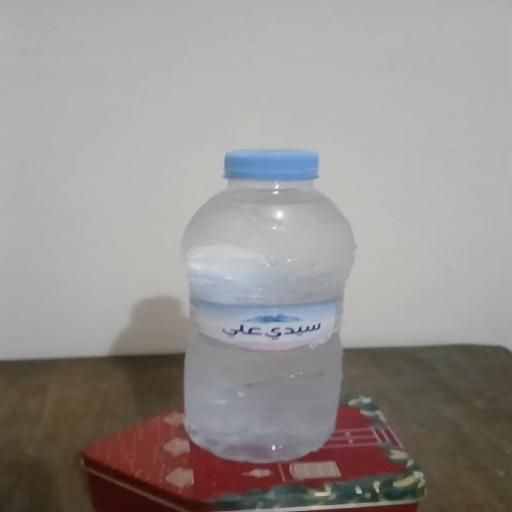bouteille conformite: (182, 149, 355, 462)
